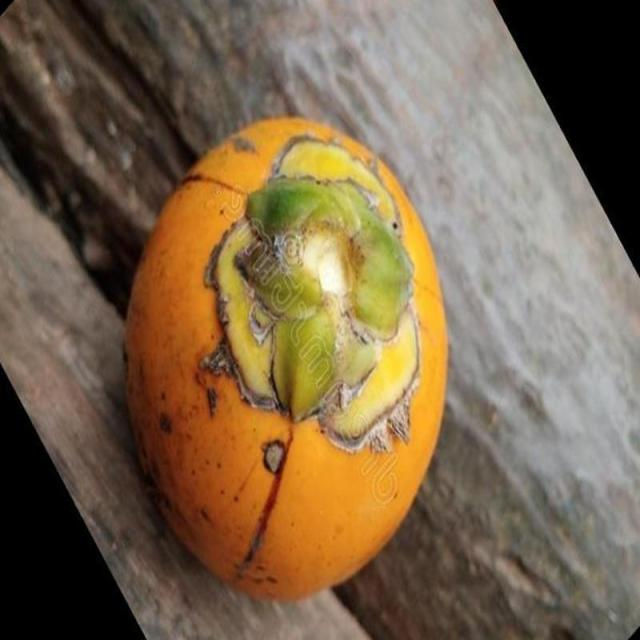good: (122, 116, 452, 607)
